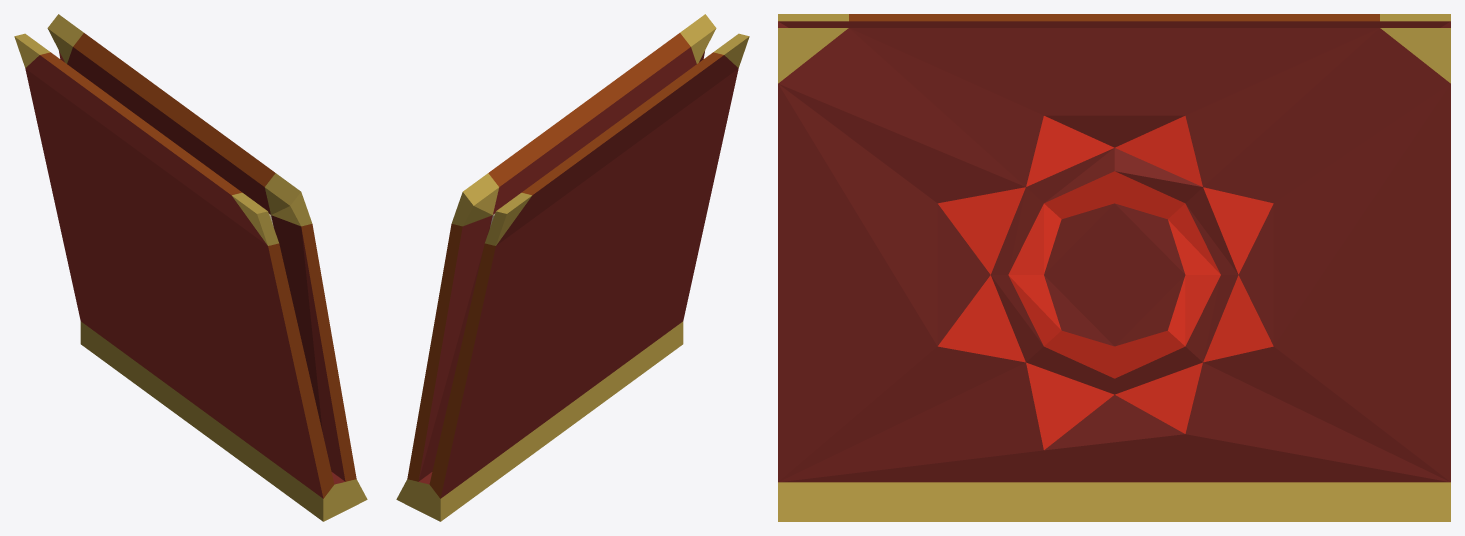
File: player_mage_s_book.glb
3 views of the same model, side by side, from view 1: azimuth 30°, elevation 25°; view 2: azimuth 150°, elevation 25°; view 3: azimuth 270°, elevation 25° (orthographic). The views are drawn at different scales.
Size of the model in its own units: 10 by 28.99 by 38.
1 material, 1 textured.
